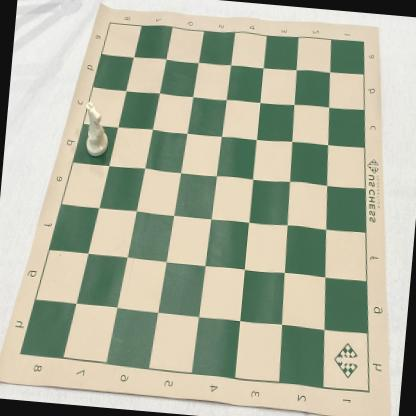white-knight: (81, 101, 112, 159)
